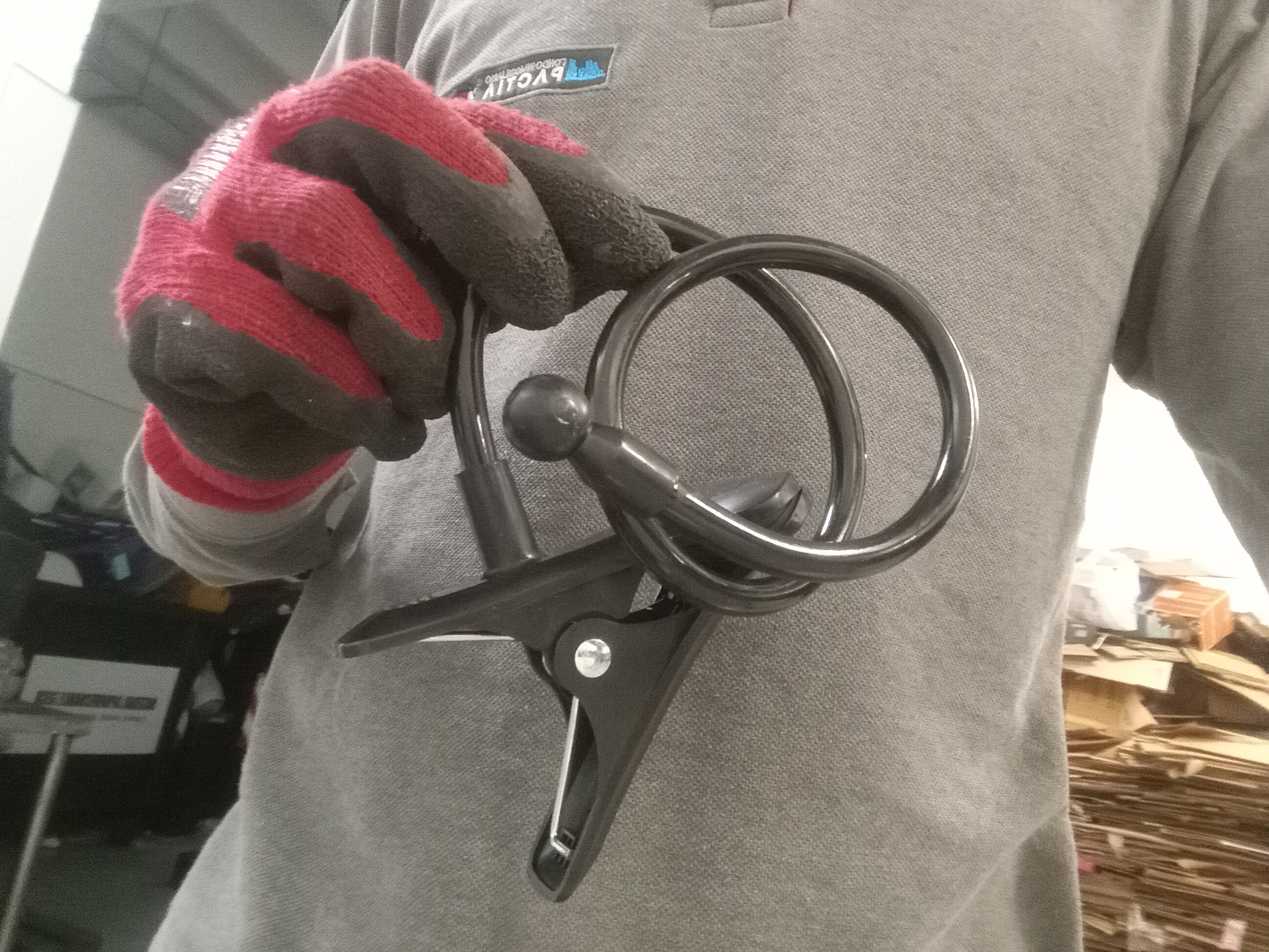Ordinario: (337, 199, 982, 900)
